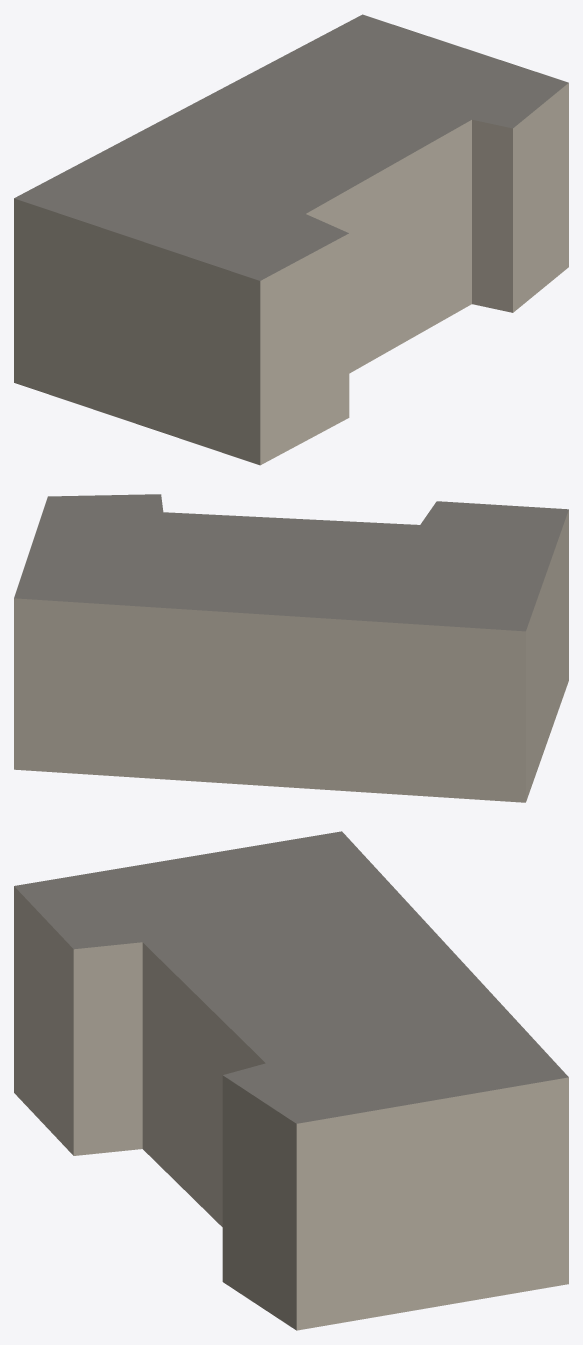
The picture shows the model from 3 angles, top to bottom: view 1: azimuth 30°, elevation 25°; view 2: azimuth 150°, elevation 25°; view 3: azimuth 270°, elevation 25°; orthographic projection. The views are drawn at different scales.
Visible parts, largest first — view 1: HP-w1515076977; view 2: HP-w1515076977; view 3: HP-w1515076977.
Boxes of the visible parts, x1,y1,x2,y2 form: HP-w1515076977: (14,14,568,465); HP-w1515076977: (14,494,568,802); HP-w1515076977: (14,831,568,1330).
Size of the model in its own units: 54.61 by 18 by 43.78.
